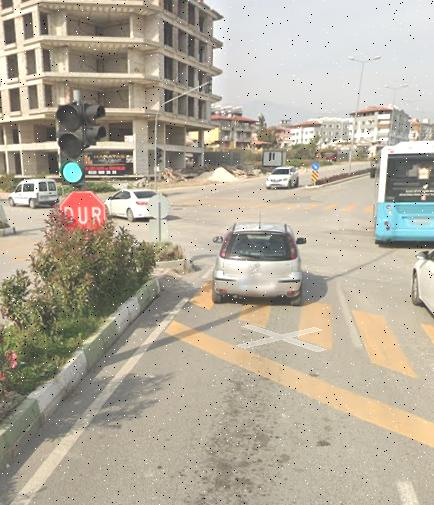greenlight: (53, 103, 84, 190)
stop: (62, 188, 106, 235)
